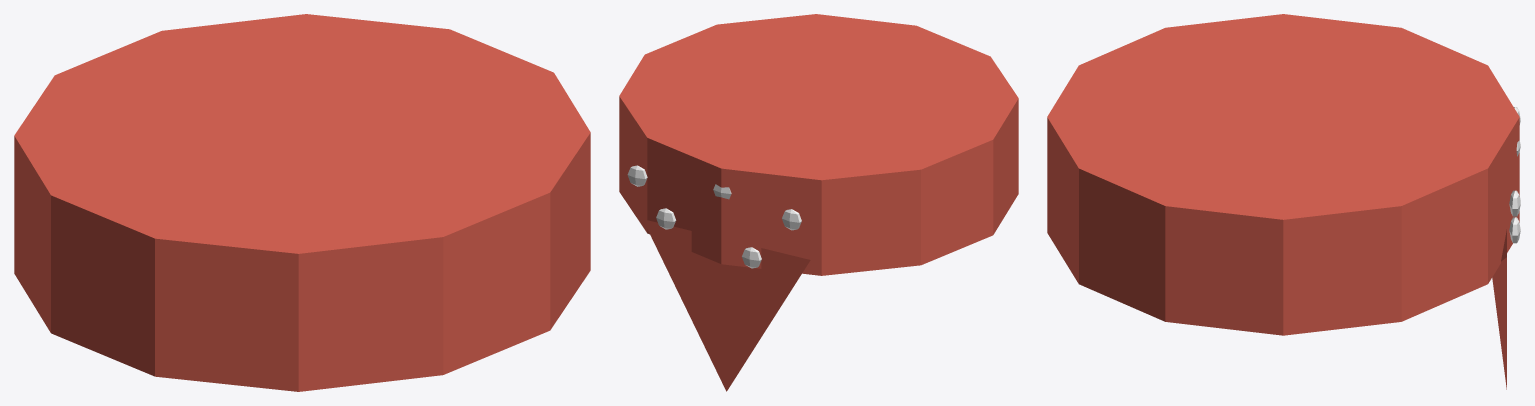
The model's file is hat_bandana.glb.
The picture shows the model from 3 angles, left to right: view 1: azimuth 30°, elevation 25°; view 2: azimuth 150°, elevation 25°; view 3: azimuth 270°, elevation 25°; orthographic projection. The views are drawn at different scales.
Parts seen in each view (by area): view 1: Head; view 2: Head; view 3: Head.
Boxes of the visible parts, x1=… form: Head: x1=14, y1=14, x2=590, y2=391; Head: x1=619, y1=14, x2=1018, y2=391; Head: x1=1047, y1=14, x2=1520, y2=389.
Bounding box in the file's own units: 0.61 × 0.38 × 0.5931.
